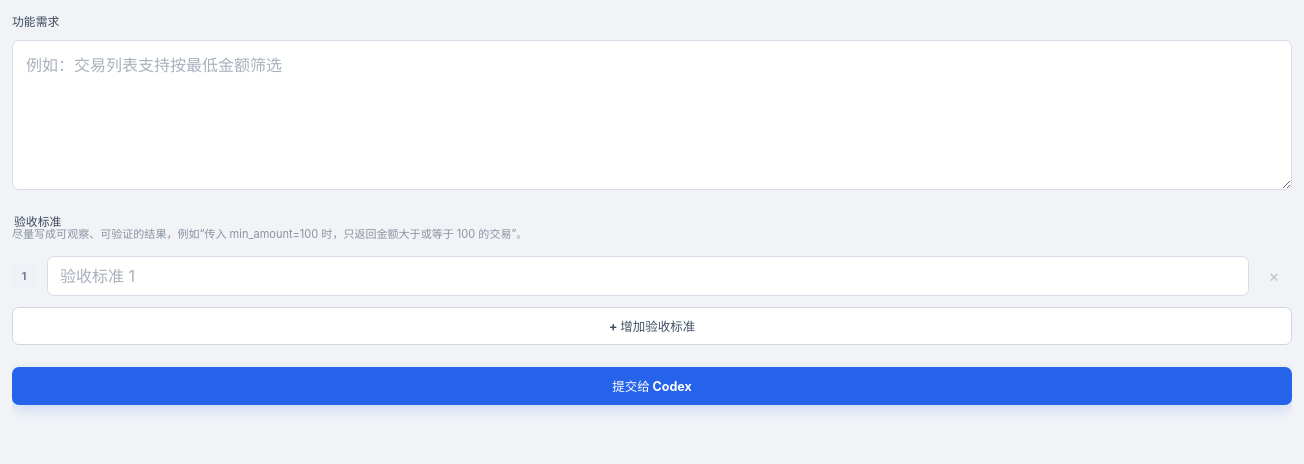
it: TaskForm › requires a concrete value in every field
Submit the form with test id "task-form"
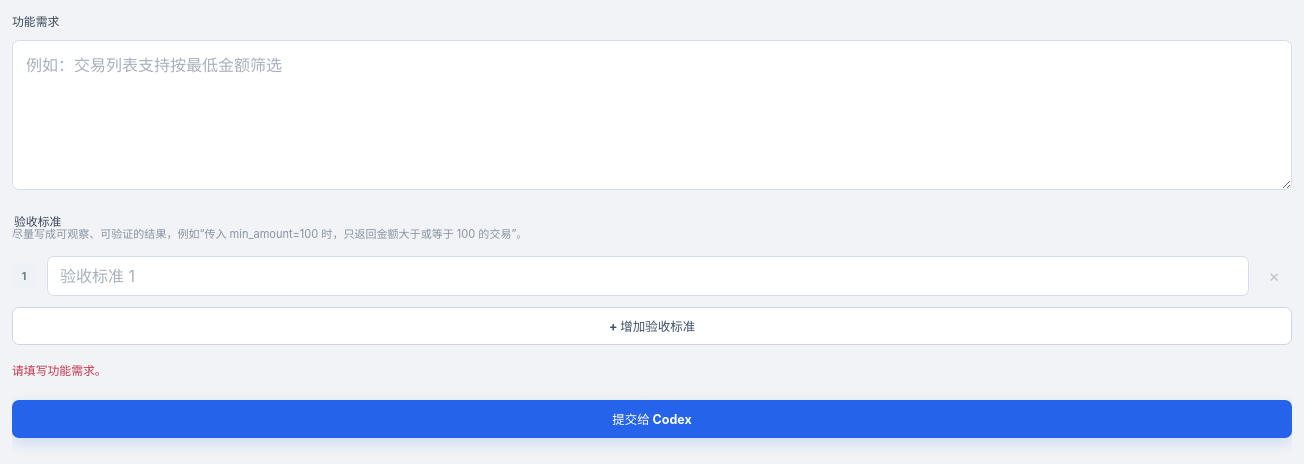
Result: the message "请填写功能需求。" is shown at [12, 364, 107, 378]
Type "Add filtering" into the text box with test id "requirement" at [652, 115], box [12, 40, 1292, 190]
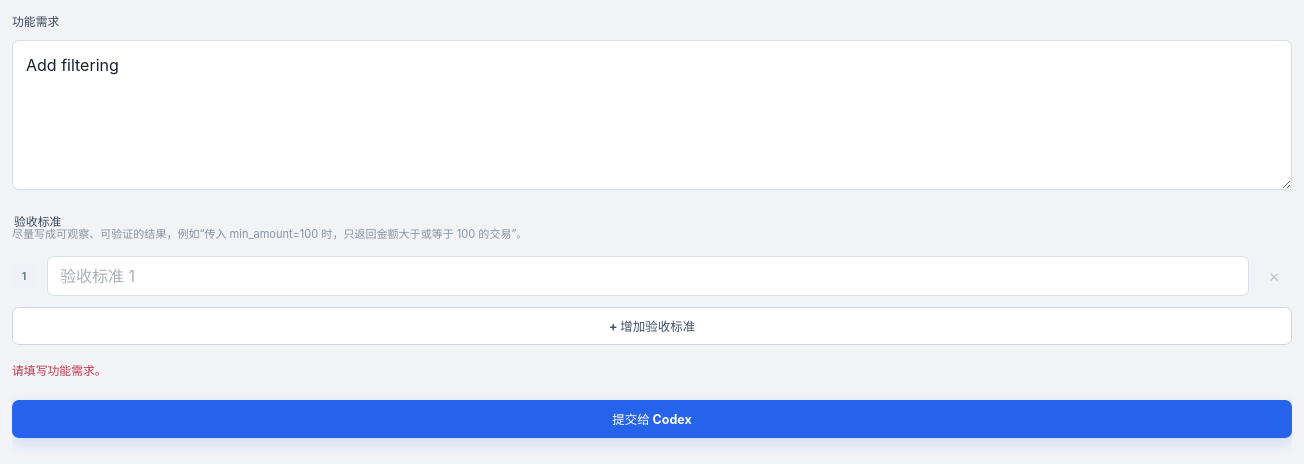
Submit the form with test id "task-form"
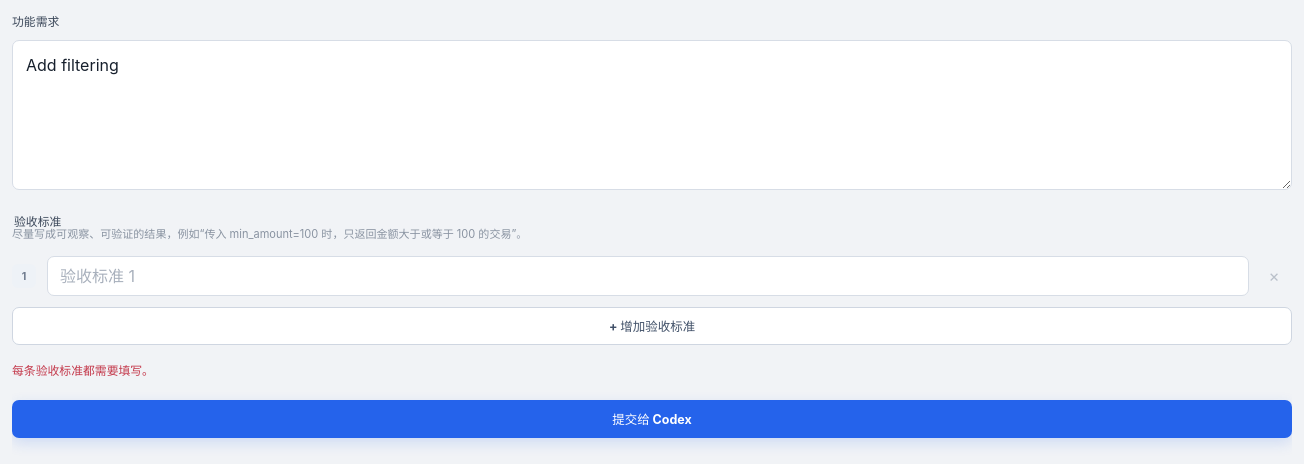
Result: the message "每条验收标准都需要填写。" is shown at [12, 364, 154, 378]
